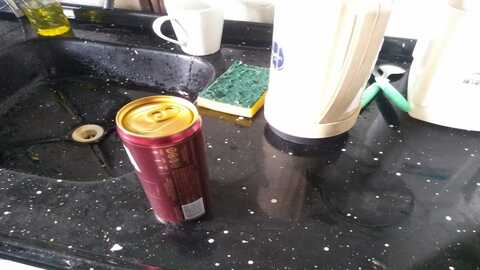duplo_malte: (119, 105, 221, 226)
